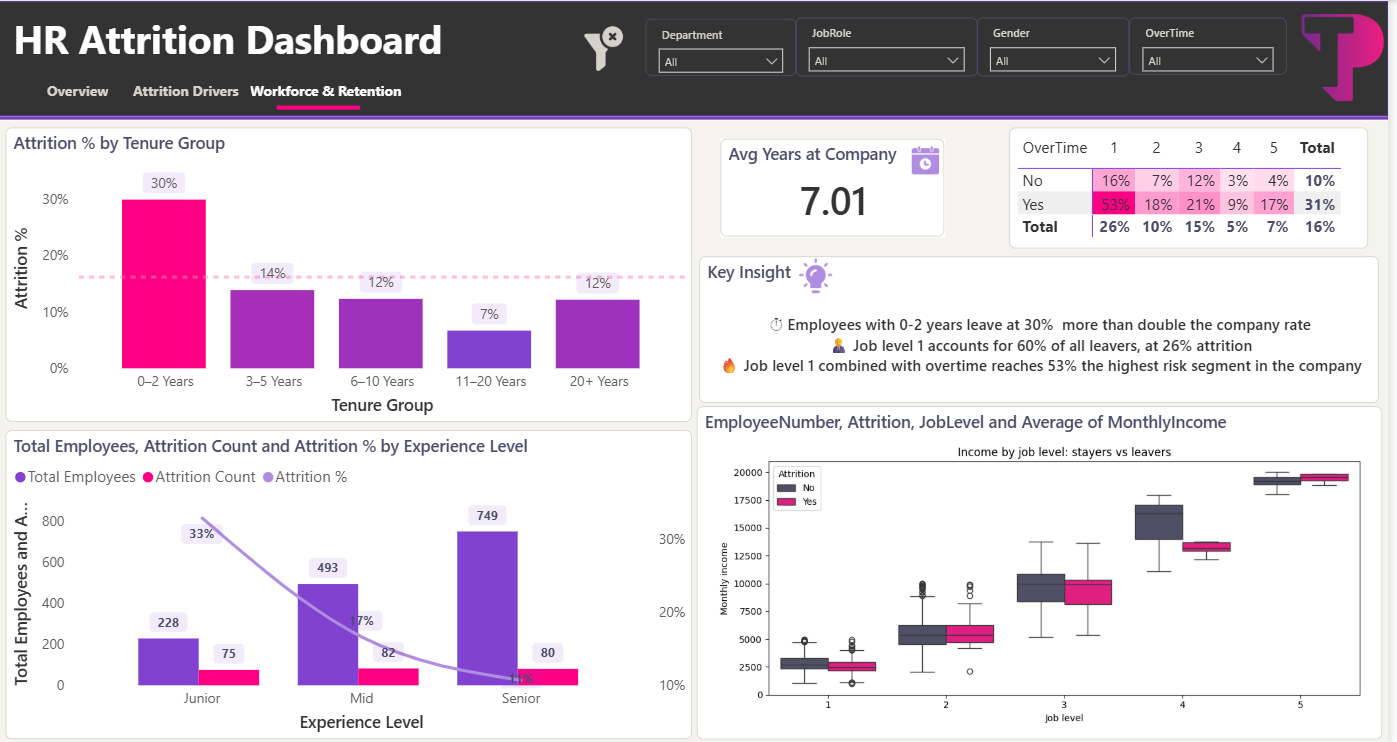

What the dashboard file says about the page in this screenshot:
{"tool":"powerbi","page":{"name":"Workforce & Retention","canvas":[1342,720],"ordinal":2},"visuals":[{"type":"shape","box":[0,5,1342,110.6],"z":0,"group":"g1"},{"type":"clusteredColumnChart","fields":{"Category":["Fact_Employee.Tenure Group"],"Y":["Table_Measures.Attrition %"]},"box":[782.7,164.6,524.2,321.8],"z":0},{"type":"shape","box":[0,1.2,1342,110.9],"z":1000,"group":"g1"},{"type":"card","title":"Avg Years at Company","fields":{"Values":["Avg(Fact_Employee.YearsAtCompany)"]},"box":[18.3,126.8,216.2,94.3],"z":1000,"group":"g3"},{"type":"card","title":"Avg Years at Company","fields":{"Values":["Table_Measures.Avg Tenure - Leavers"]},"box":[269.4,128,216.2,94.3],"z":1000,"group":"g2"},{"type":"card","title":"\tAvg Distance From Home","fields":{"Values":["Table_Measures.Key Insight - Tenure"]},"box":[7.3,512,308.4,136.5],"z":1000},{"type":"image","box":[1253.3,0,89,110.9],"z":2000,"group":"g1"},{"type":"lineClusteredColumnComboChart","fields":{"Category":["Fact_Employee.Experience Level"],"Y":["Table_Measures.Total Employees","Table_Measures.Attrition Count"],"Y2":["Table_Measures.Attrition %"]},"box":[26.8,221.9,699.8,271.9],"z":2000},{"type":"pivotTable","fields":{"Columns":["Dim_EmployeeProfile.OverTime"],"Rows":["Fact_Employee.JobLevel"],"Values":["Table_Measures.Attrition %","Table_Measures.Attrition Count"]},"box":[531.5,496.2,810.7,224.3],"z":3000},{"type":"group","id":"g1","title":"Group 7","box":[0,0,1342.2,117.3],"z":4000},{"type":"group","id":"g2","title":"Group 1","box":[269.4,128,217,93.9],"z":5000},{"type":"slicer","fields":{"Values":["Dim_Department.Department"]},"box":[624.6,17.6,145.8,55.3],"z":6000,"group":"g1"},{"type":"group","id":"g3","title":"Group 1","box":[18.3,126.8,217,95.1],"z":6000},{"type":"slicer","fields":{"Values":["Dim_JobRole.JobRole"]},"box":[769.2,16.3,176,56.6],"z":7000,"group":"g1"},{"type":"slicer","fields":{"Values":["Fact_Employee.Gender"]},"box":[945.1,16.3,147,56.6],"z":8000,"group":"g1"},{"type":"slicer","fields":{"Values":["Fact_Employee.OverTime"]},"box":[1092.2,16.3,152.1,55.3],"z":9000,"group":"g1"},{"type":"textbox","box":[10.1,7.5,475.1,64.1],"z":11000,"group":"g1"},{"type":"shape","box":[26.4,57,100.5,60.3],"z":12000,"group":"g1"},{"type":"shape","box":[129.4,56.6,104.3,60.3],"z":13000,"group":"g1"},{"type":"shape","box":[236.3,56.6,159.6,60.3],"z":14000,"group":"g1"},{"type":"shape","box":[269.4,95.1,80.5,17.1],"z":15000,"group":"g1"},{"type":"image","box":[197.8,126.9,36.6,41.4],"z":17008,"group":"g3"},{"type":"image","box":[448.9,128.1,36.6,41.4],"z":17008,"group":"g2"},{"type":"image","box":[544.2,20.1,80.4,52.8],"z":17010,"group":"g1"}]}

Visuals, with their boxes on the page's 1342x720 design canvas (x1, y1, x2, y2). These are canvas units, not pixel positions in the 1397x742 screenshot, which may show the page scaled, cropped or inside an application window:
shape: 0, 5, 1342, 116
clusteredColumnChart - Fact_Employee.Tenure Group x Table_Measures.Attrition %: 783, 165, 1307, 486
shape: 0, 1, 1342, 112
"Avg Years at Company" card: 18, 127, 234, 221
"Avg Years at Company" card: 269, 128, 486, 222
"	Avg Distance From Home" card: 7, 512, 316, 648
image: 1253, 0, 1342, 111
lineClusteredColumnComboChart - Fact_Employee.Experience Level x Table_Measures.Total Employees: 27, 222, 727, 494
pivotTable - Dim_EmployeeProfile.OverTime x Fact_Employee.JobLevel: 532, 496, 1342, 720
"Group 7" group: 0, 0, 1342, 117
"Group 1" group: 269, 128, 486, 222
slicer - Dim_Department.Department: 625, 18, 770, 73
"Group 1" group: 18, 127, 235, 222
slicer - Dim_JobRole.JobRole: 769, 16, 945, 73
slicer - Fact_Employee.Gender: 945, 16, 1092, 73
slicer - Fact_Employee.OverTime: 1092, 16, 1244, 72
textbox: 10, 8, 485, 72
shape: 26, 57, 127, 117
shape: 129, 57, 234, 117
shape: 236, 57, 396, 117
shape: 269, 95, 350, 112
image: 198, 127, 234, 168
image: 449, 128, 486, 170
image: 544, 20, 625, 73
